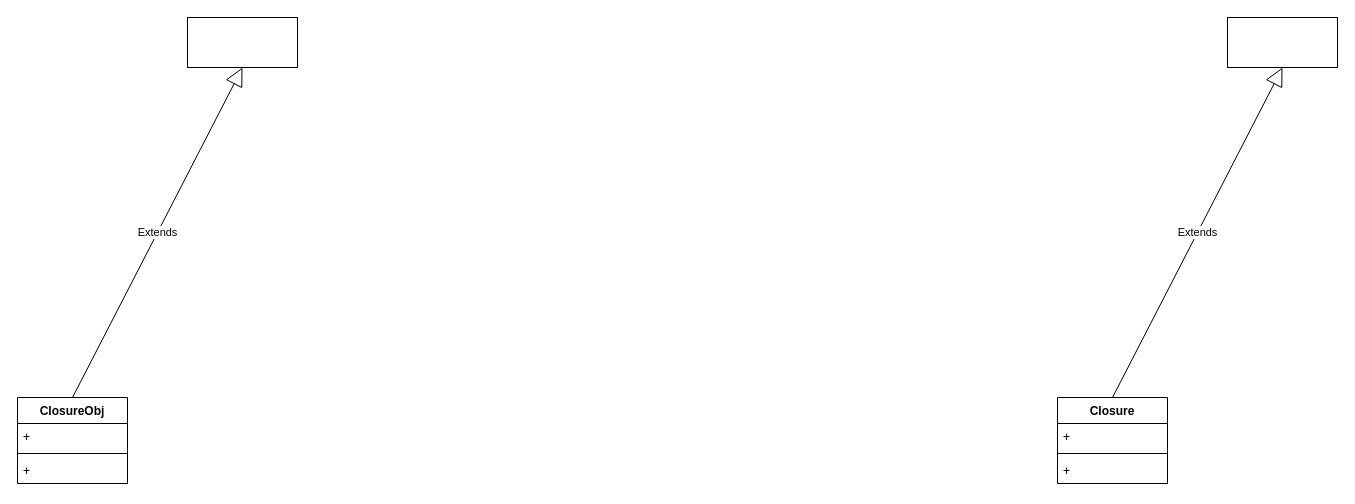
The diagram is 1355 pixels wide and 504 high, and some of its shapes have lost their labels. Here are the shapes that lost their labels. From the top down, the centre of each, then its label:
At (242,42): "Object".
At (1282,42): "ObjectRef".
